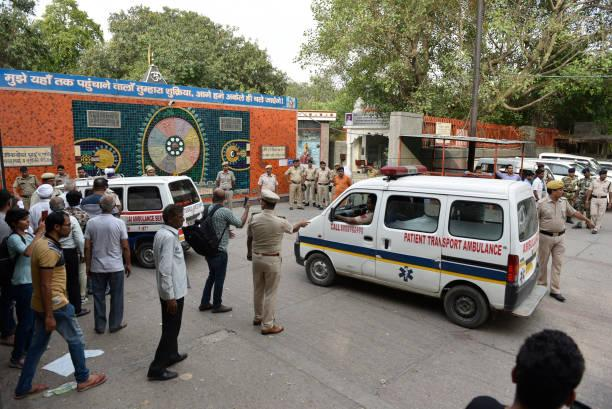ER: (294, 162, 551, 331), (52, 175, 205, 270)
